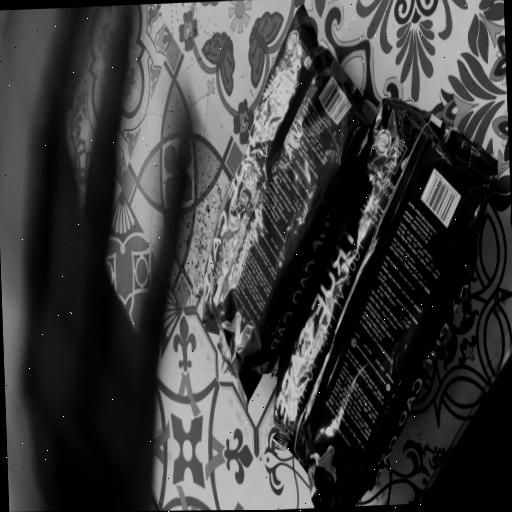cafe_hat: (273, 97, 496, 508)
cafe_xay: (202, 5, 374, 407)
